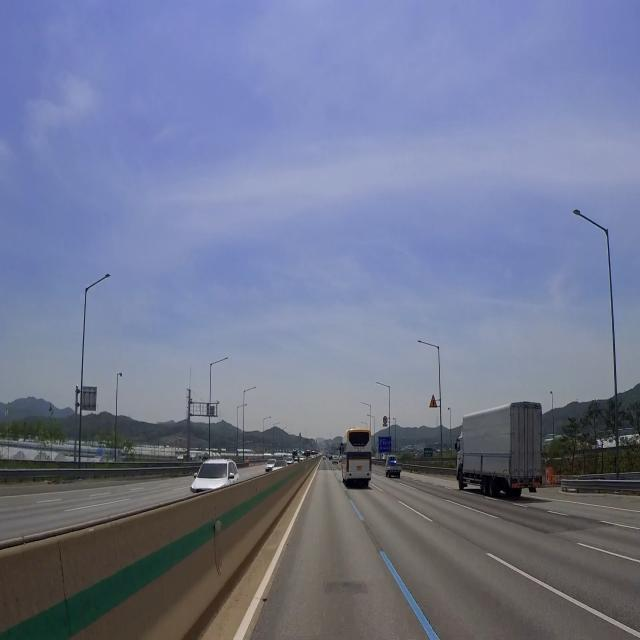car: (351, 458, 364, 477), (520, 478, 536, 489)
